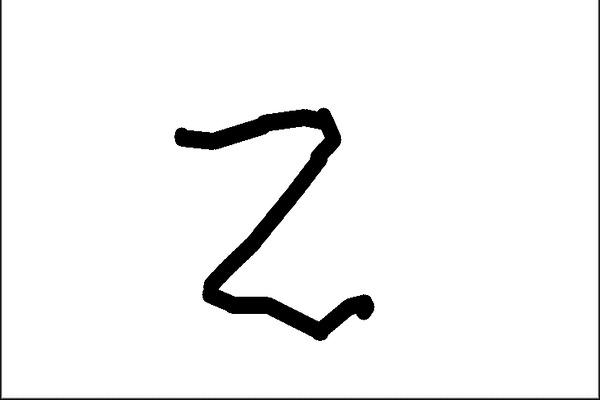Z: (145, 96, 389, 353)
